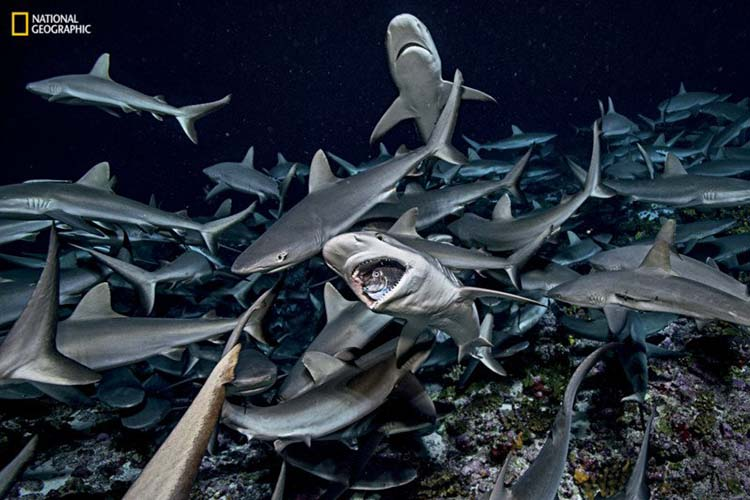shark: (242, 76, 481, 293), (309, 195, 544, 385), (359, 8, 507, 191), (1, 160, 267, 260), (537, 216, 750, 335), (18, 48, 242, 148)
